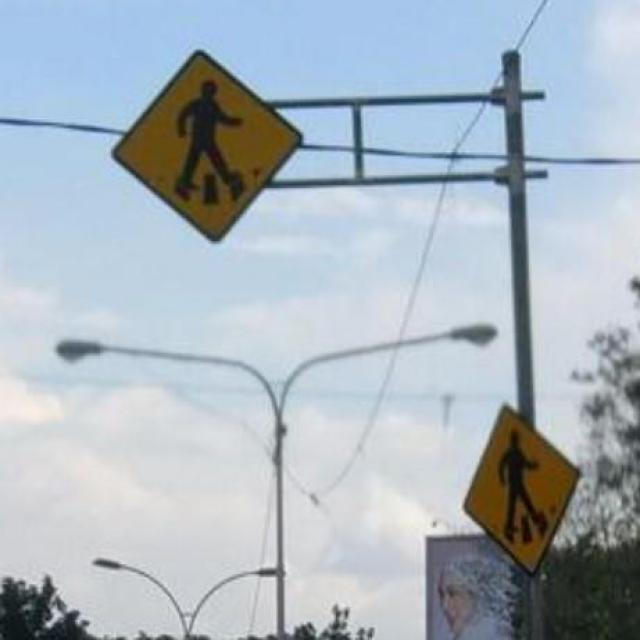traffic sign: (121, 55, 302, 243), (469, 402, 582, 578)
